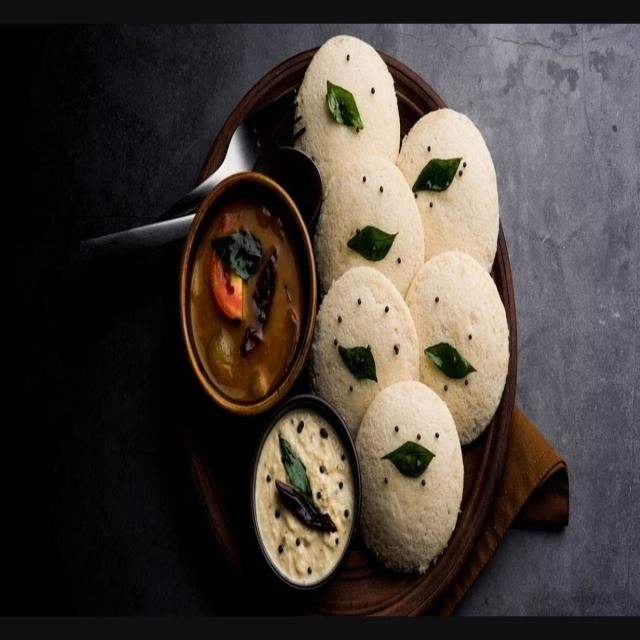IDLI: (294, 36, 512, 569)
